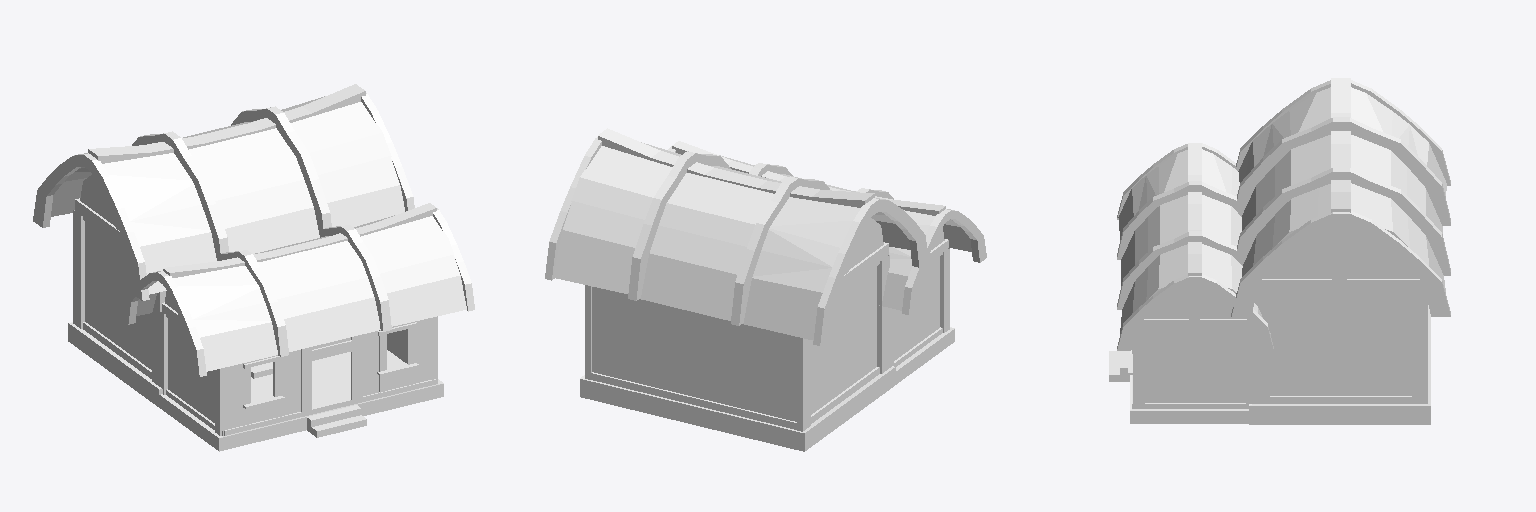
File: Domek.obj
3 renders of one model, left to right at view 1: azimuth 30°, elevation 25°; view 2: azimuth 150°, elevation 25°; view 3: azimuth 270°, elevation 25°, orthographic.
Visible parts, largest first — view 1: house_Cube.001, house_Cube.026; view 2: house_Cube.026, house_Cube.001; view 3: house_Cube.026, house_Cube.001.
Boxes of the visible parts, box(x1,y1,x2,y2) form: house_Cube.001: box(121, 203, 474, 451); house_Cube.026: box(33, 84, 414, 406); house_Cube.026: box(545, 128, 929, 451); house_Cube.001: box(668, 141, 986, 388); house_Cube.026: box(1231, 78, 1450, 424); house_Cube.001: box(1109, 143, 1273, 423).
Size of the model in its own units: 0.7873 by 0.6195 by 0.8492.